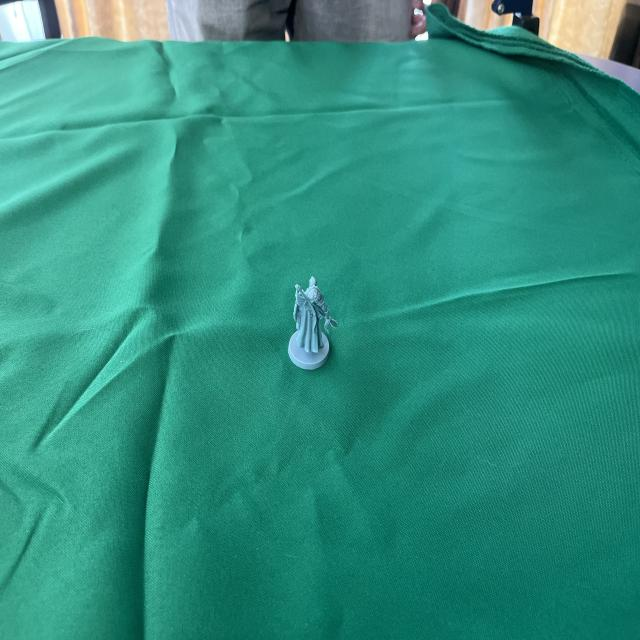isis_follower: (285, 272, 336, 380)
